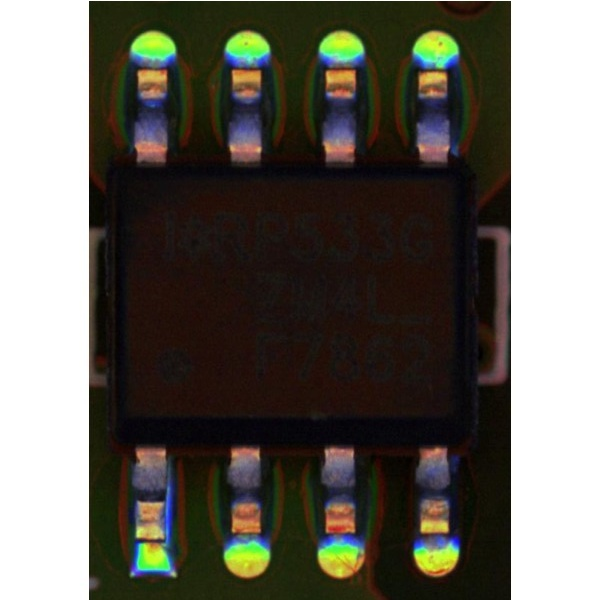Bad_podu: (144, 526, 160, 552)
